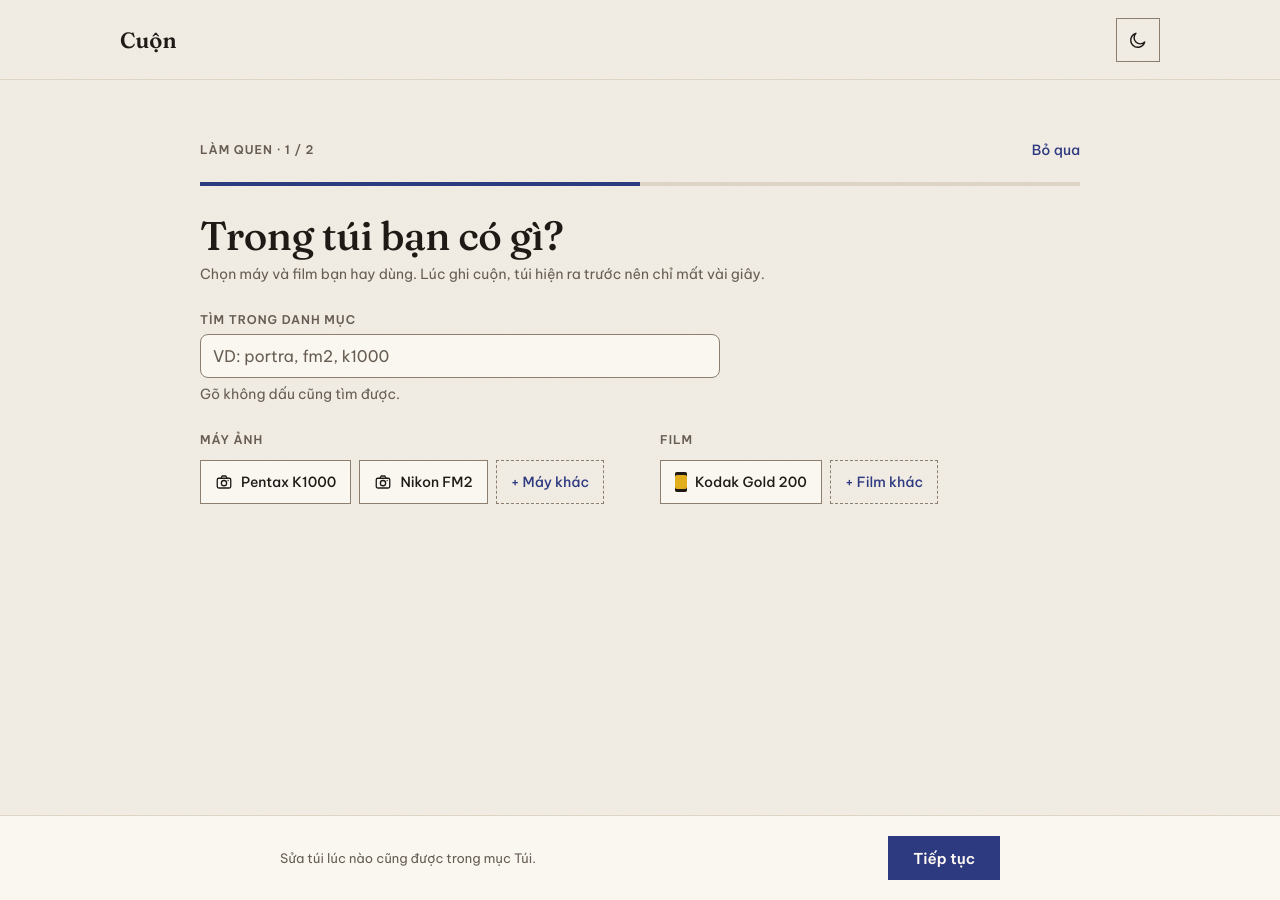
it: OnboardBagContent › typing in search adds matching results as extra chips
In the search field labelled "Tìm trong danh mục": coordinates (460, 356) [200, 334, 720, 378], type "canon"
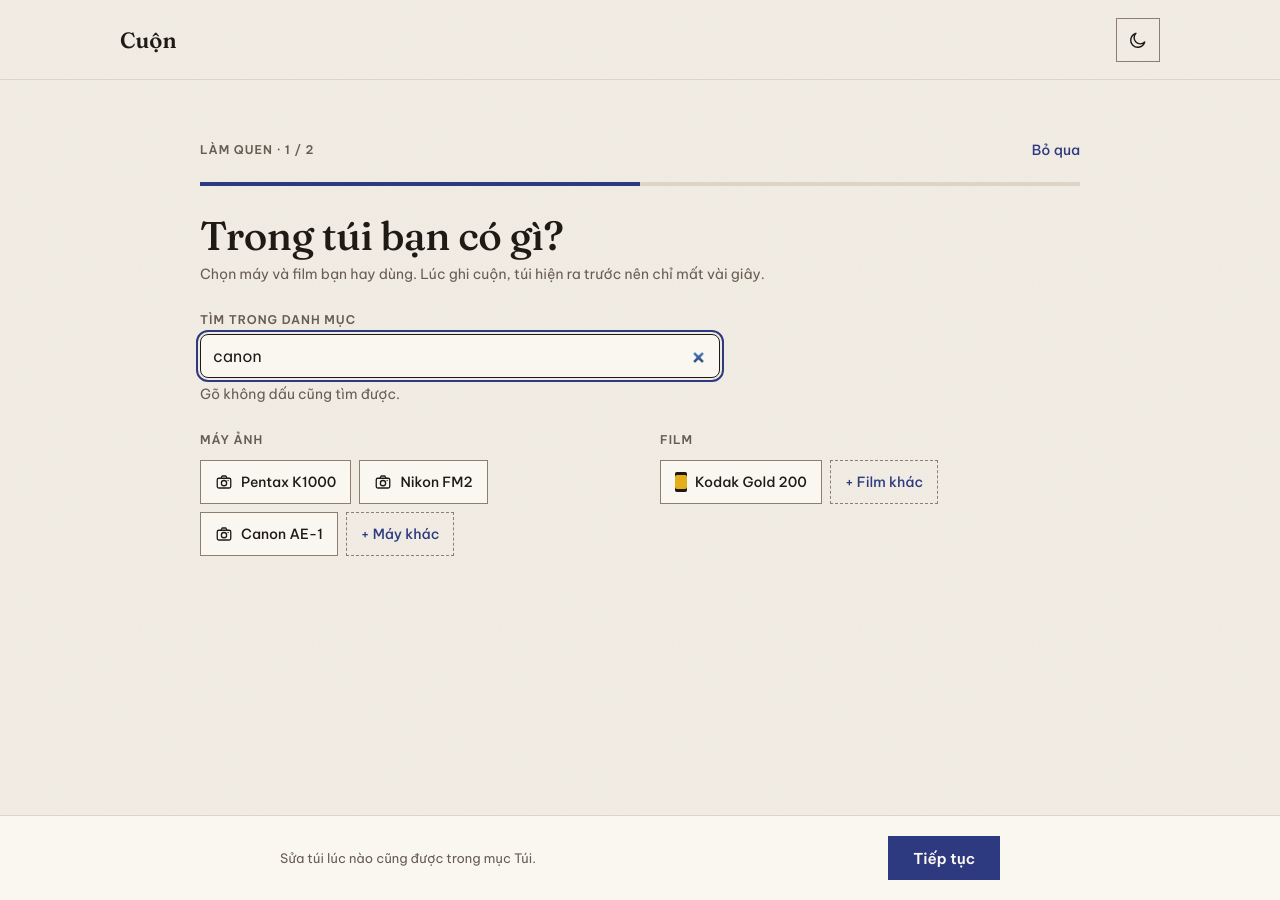
Check: the button "Canon AE-1" is shown, box [200, 512, 338, 556]
